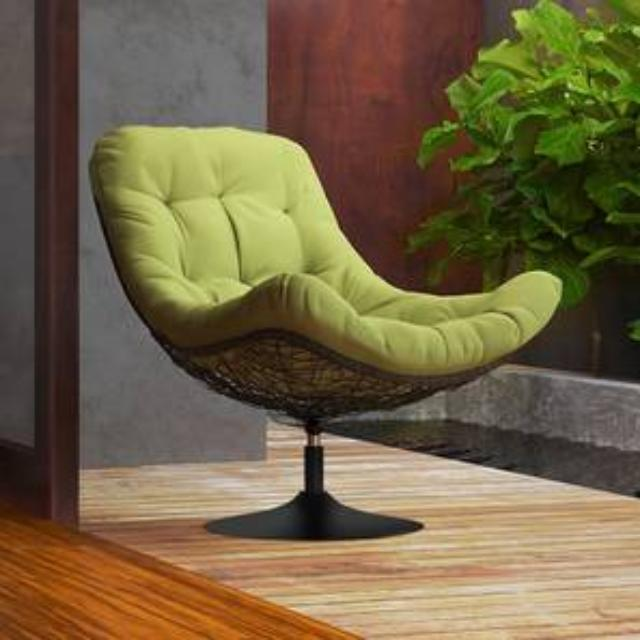obstacle: (53, 45, 607, 535)
